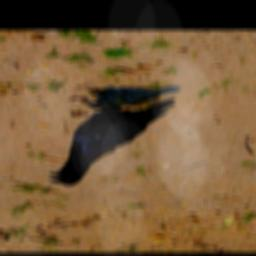Crow: (48, 89, 176, 186)
